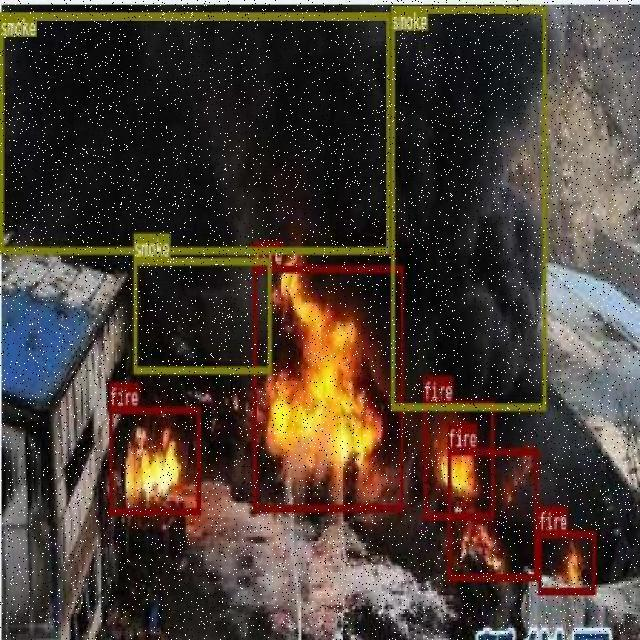Smoke: (0, 0, 389, 188), (422, 0, 514, 403), (164, 257, 239, 372)
